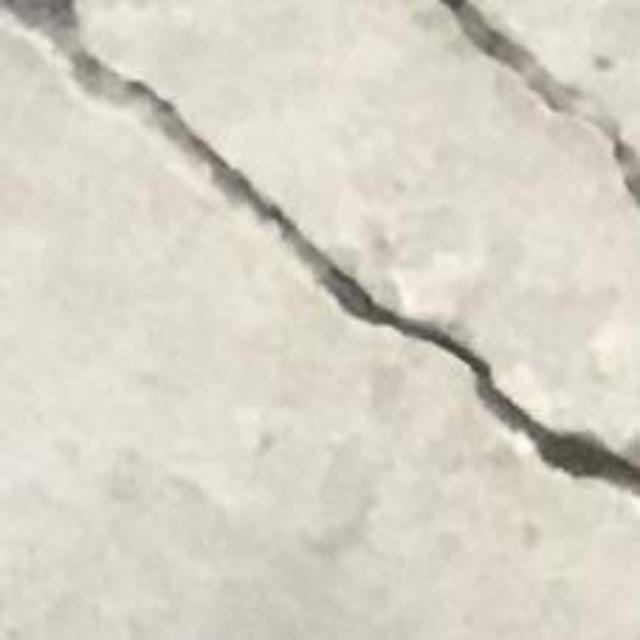crack: (0, 0, 639, 493)
